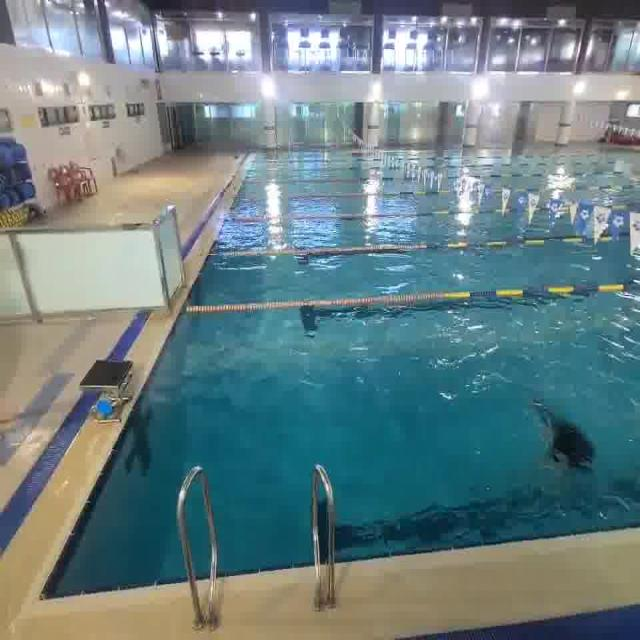Drowning: (522, 386, 604, 494)
